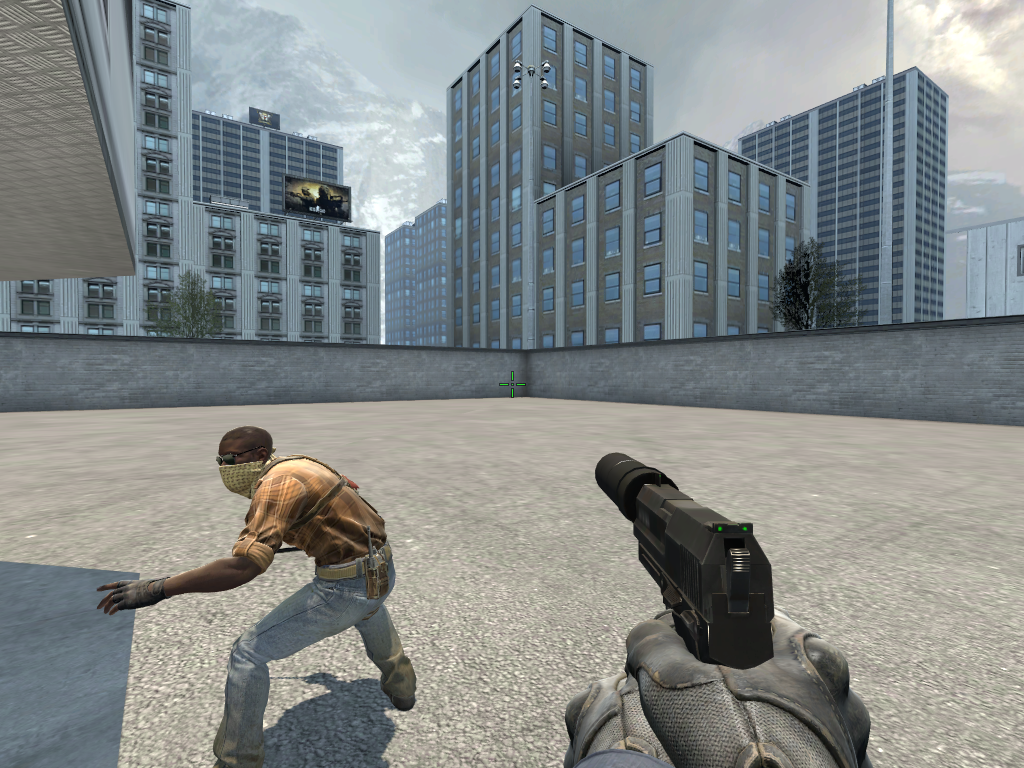tr head: (214, 422, 276, 501)
